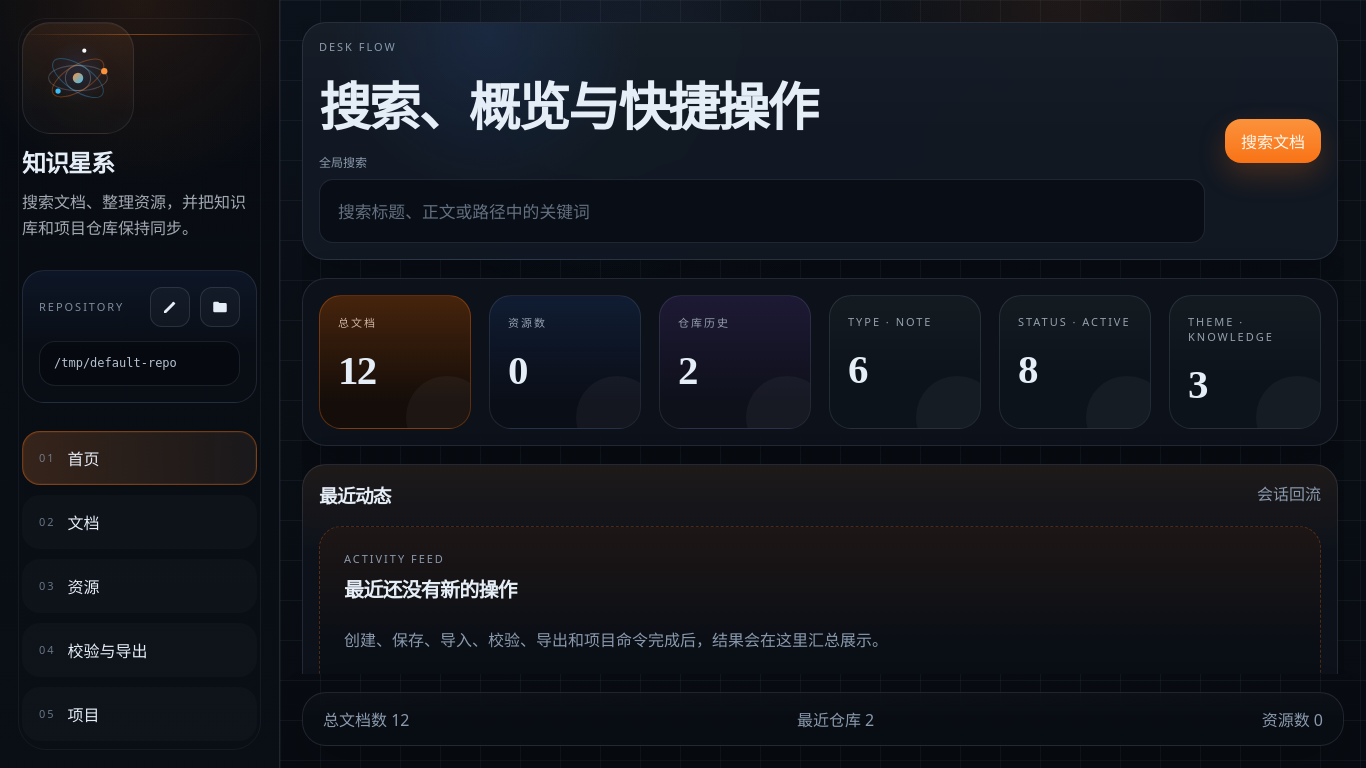
Scenario: App › clears the current search and filters from the documents index toolbar
The width and height of the screenshot is (1366, 768).
expect the text "/tmp/default-repo" is shown: met, box [39,341,240,386]
Click the button "02 文档" at (140, 522), box [22,495,257,549]
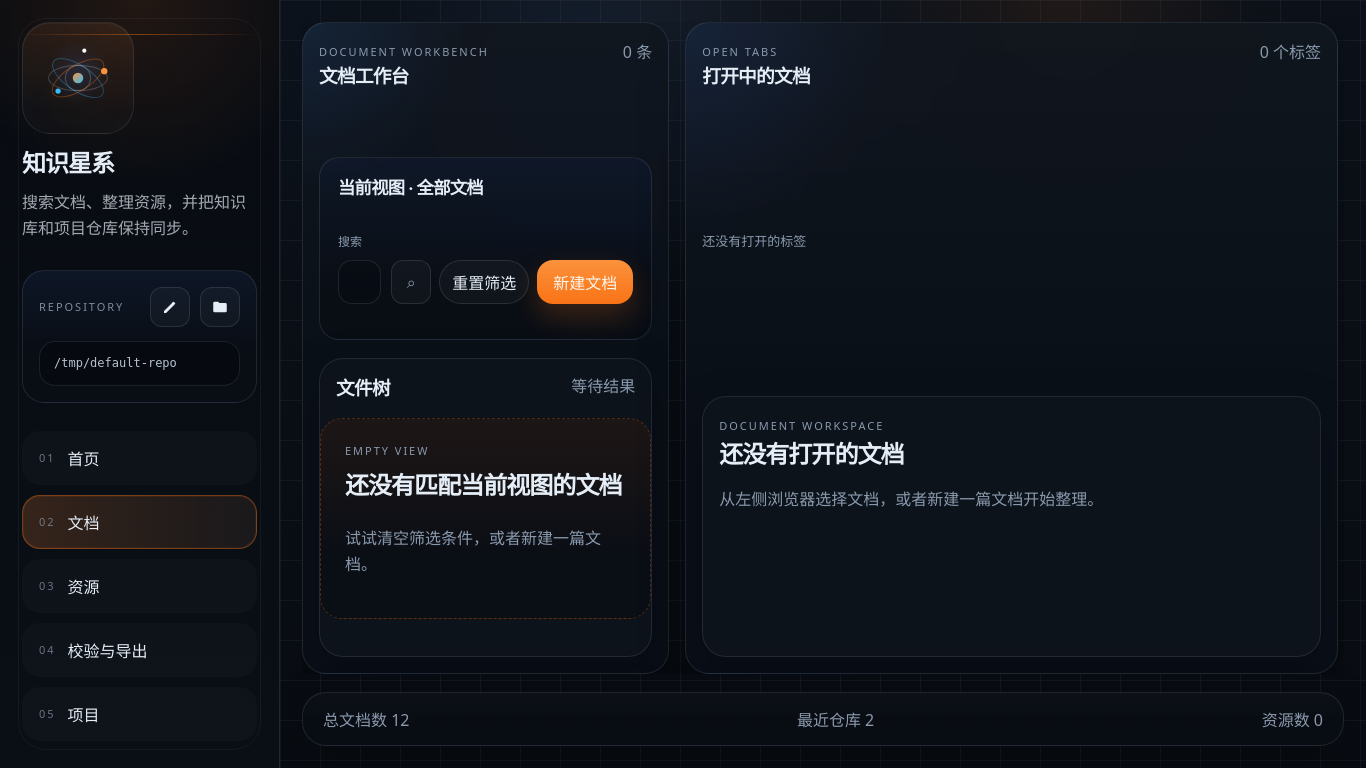
Click the button named "筛选文档" at (411, 282), box [391,260,431,304]
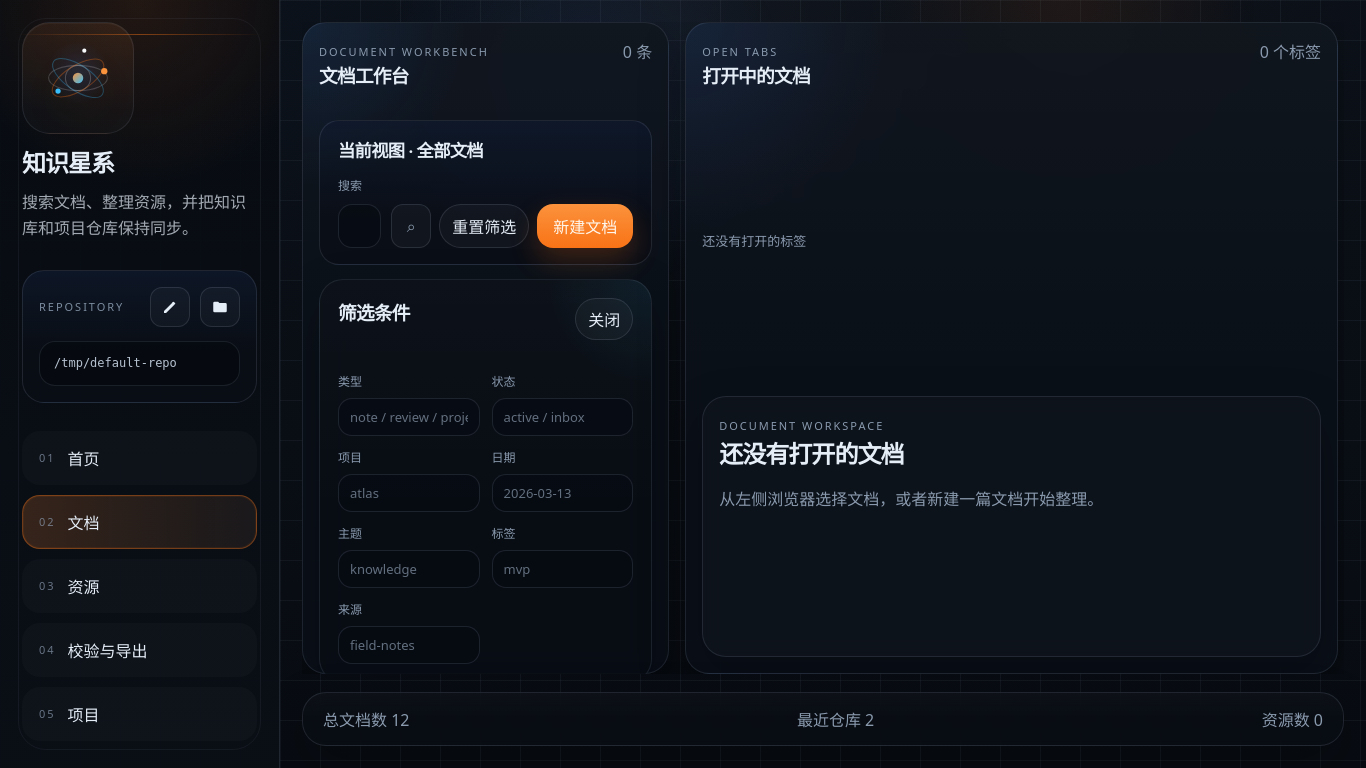
expect the heading "筛选条件" is shown: met, box [338,298,410,325]
Type "search phrase" into the field labelled "搜索" at (360, 226), box [338,204,381,248]
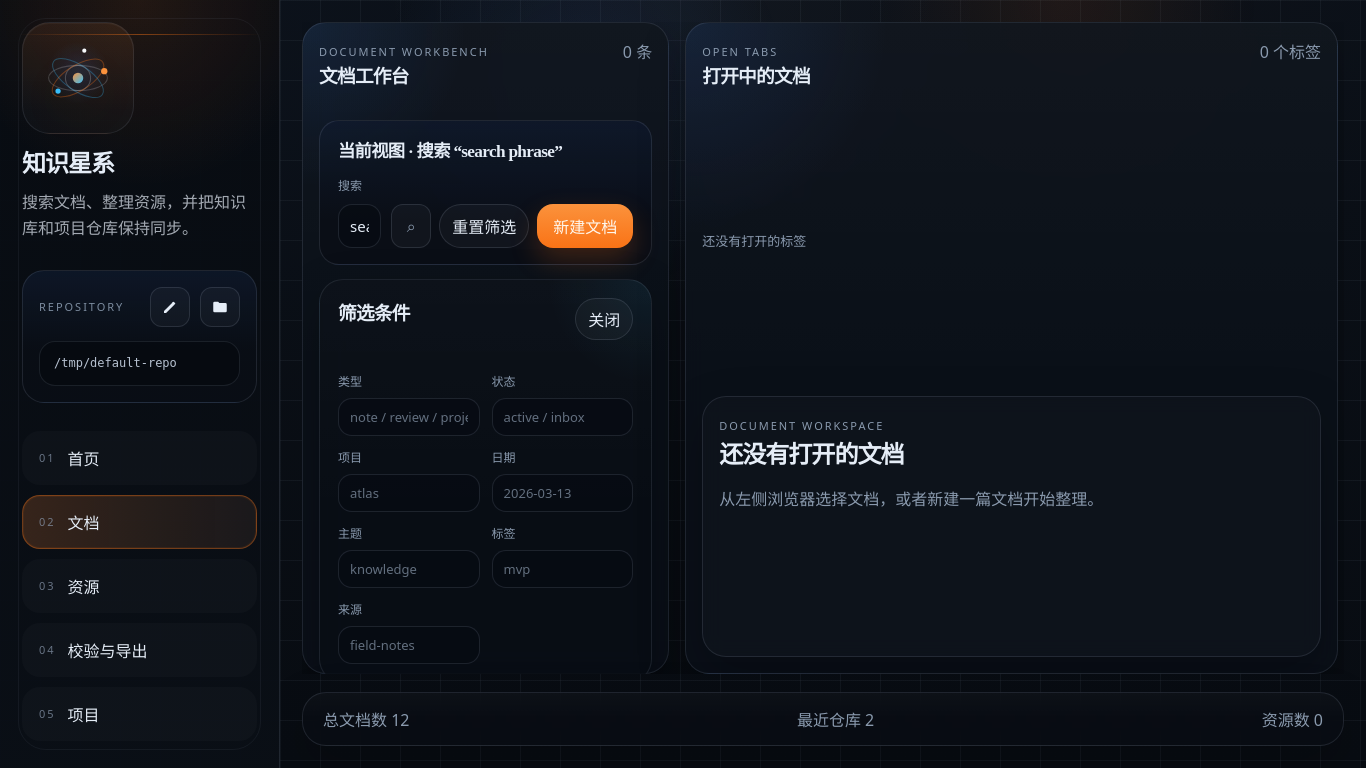
Type "active" into the field labelled "状态" at (562, 417), box [492,398,633,436]
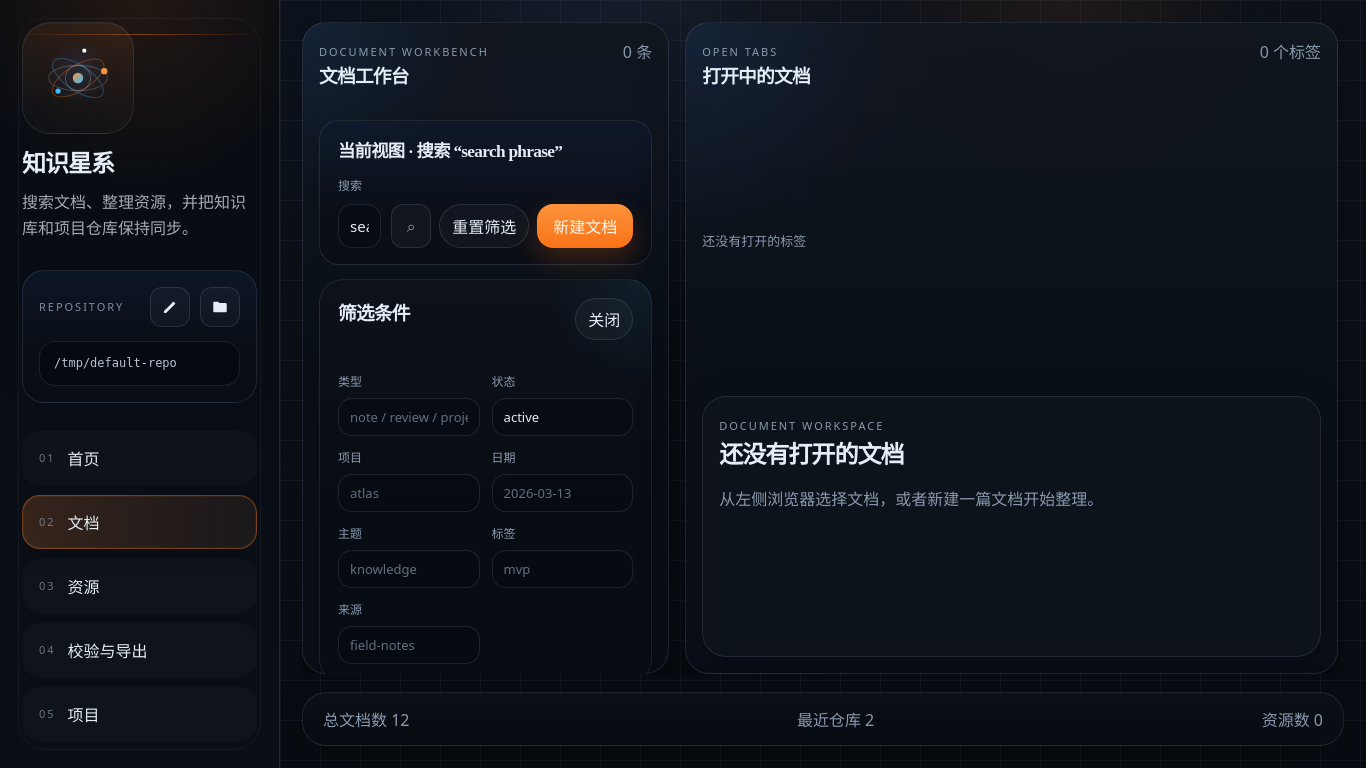
expect the text "当前视图 · 搜索 “search phrase”" is shown: met, box [338,142,562,161]
Click the button "重置筛选" at (484, 226), box [439,204,529,248]
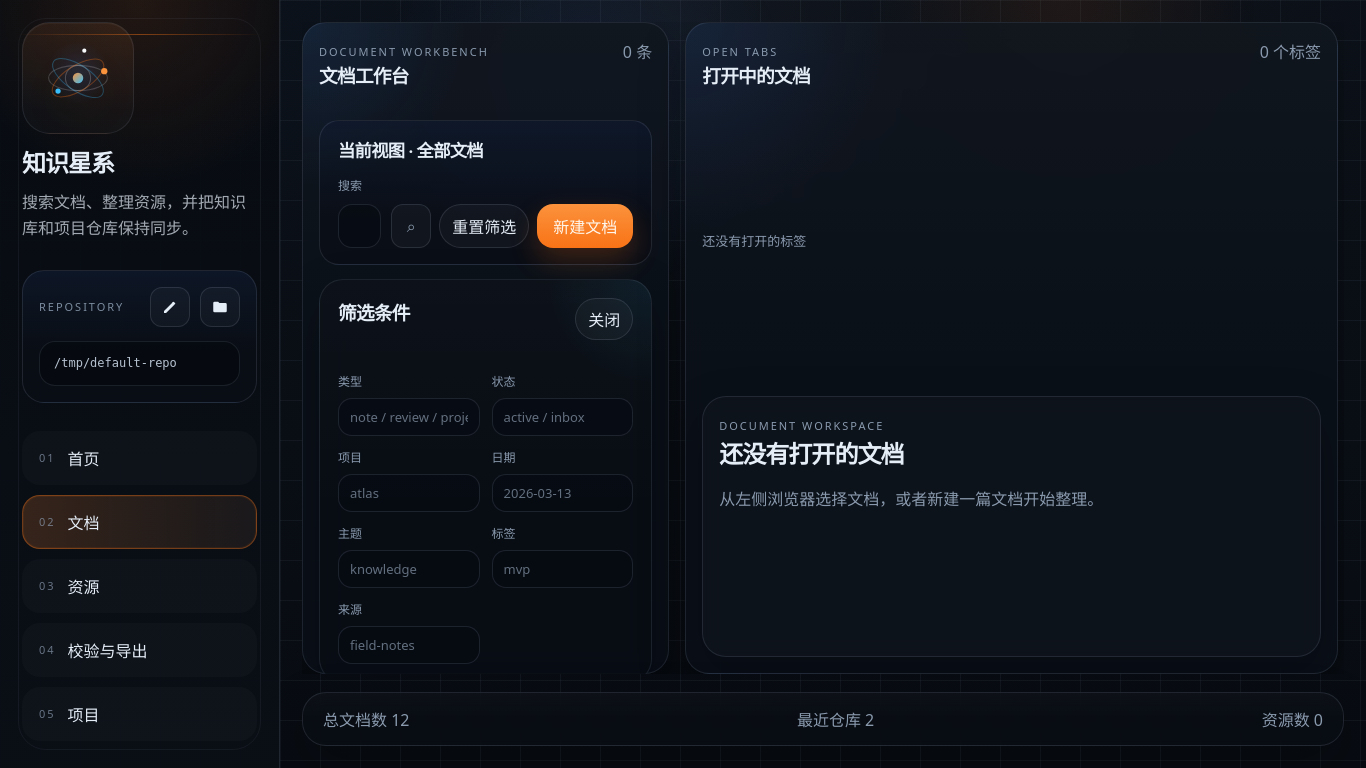
expect the field labelled "搜索" is empty: met, box [338,204,381,248]
expect the field labelled "状态" is empty: met, box [492,398,633,436]
expect the text "当前视图 · 全部文档" is shown: met, box [338,142,483,161]
